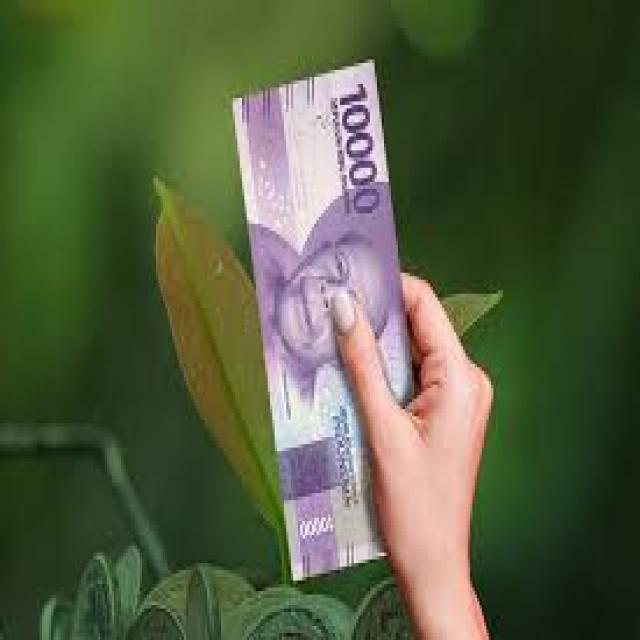sepuluh ribu rupiah: (231, 81, 428, 560), (283, 216, 382, 369), (320, 88, 384, 212)
